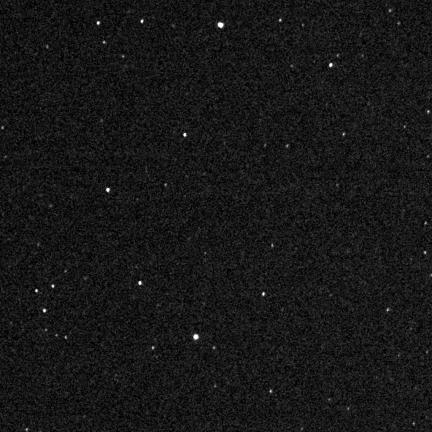blob: (218, 22, 224, 28), (194, 334, 199, 340), (262, 292, 266, 297), (397, 22, 401, 26), (138, 281, 142, 285), (271, 244, 275, 248), (103, 41, 107, 45), (106, 188, 110, 192), (424, 222, 428, 226), (213, 346, 216, 351), (52, 284, 55, 289), (427, 110, 430, 115), (330, 63, 333, 67), (36, 289, 39, 293), (0, 126, 4, 129), (424, 251, 427, 255), (43, 309, 46, 313), (387, 308, 390, 312), (97, 22, 100, 25), (279, 19, 282, 22), (184, 133, 186, 137), (270, 389, 272, 393), (141, 19, 143, 23), (152, 346, 154, 349), (65, 336, 67, 339), (343, 133, 345, 136)
